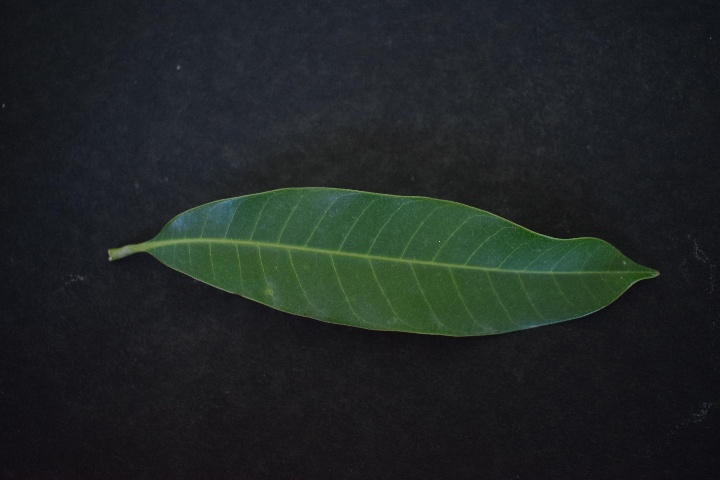healthy: (156, 180, 646, 339)
